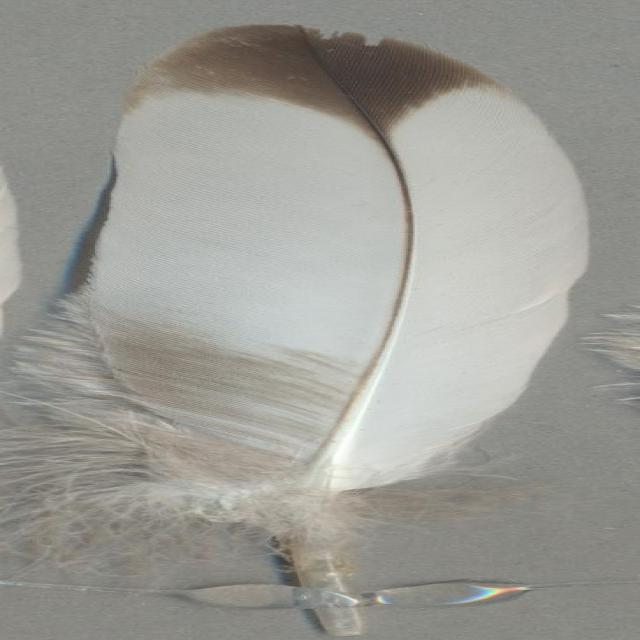feather: (0, 24, 615, 630)
